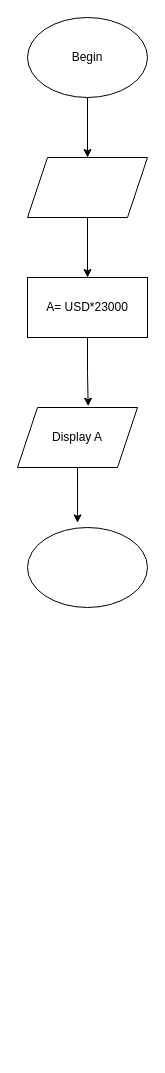
Some shapes in this 165 by 1073 pixel diagram are drawn without their labels. The centre of each missing label's shape, as x and y in pixels:
"End" belongs at point 87,567.
"Input USD" belongs at point 87,187.
